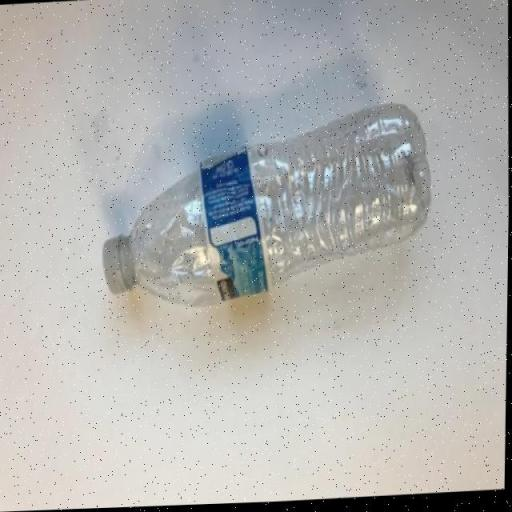plastic: (104, 107, 433, 309)
